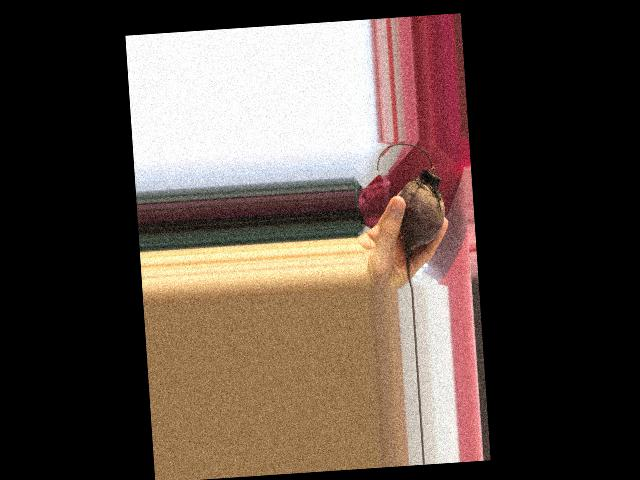beet: (375, 140, 449, 290)
